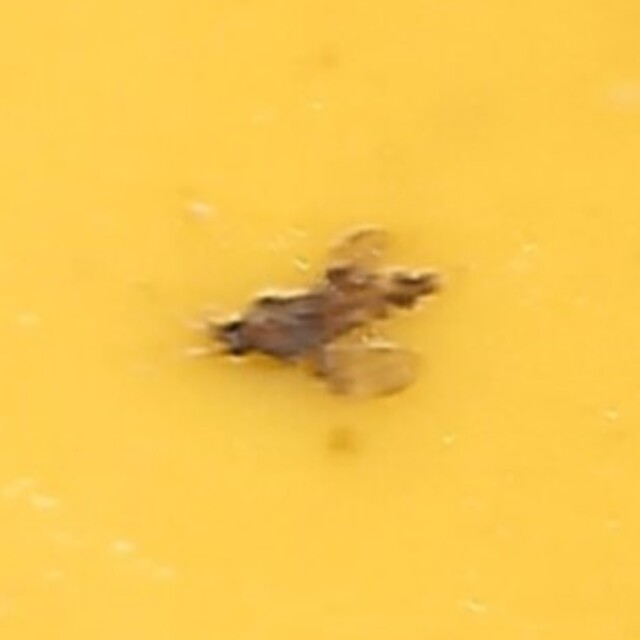Nematocera: (206, 221, 434, 419)
